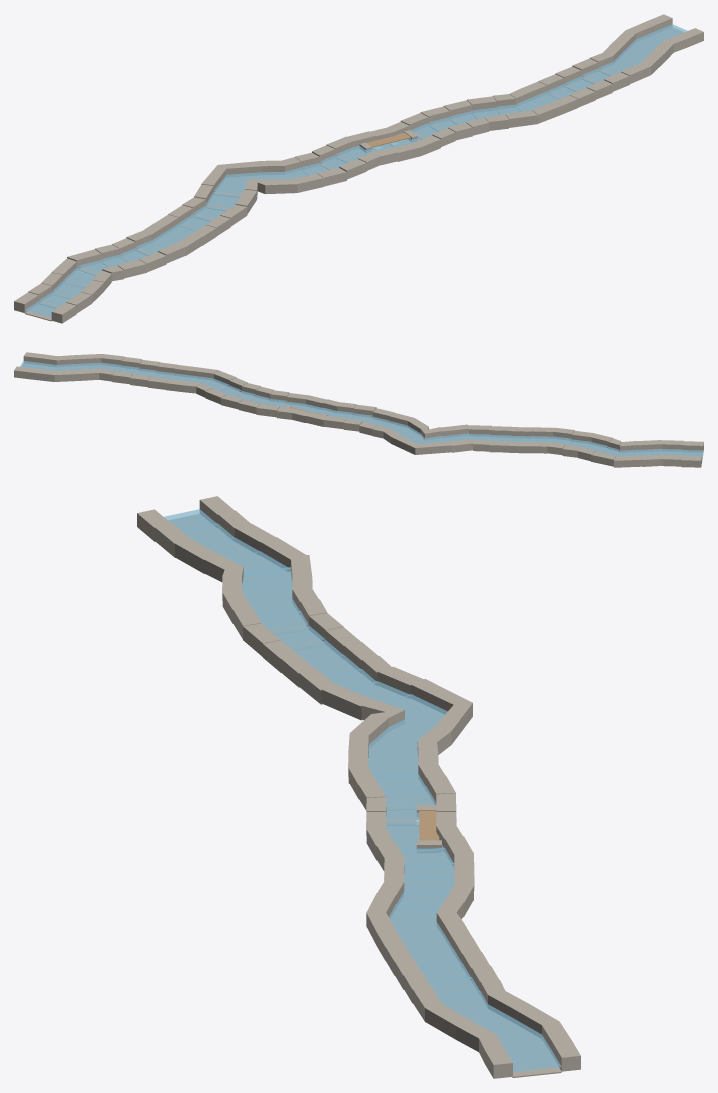
The model's file is creek.glb.
The picture shows the model from 3 angles, top to bottom: view 1: azimuth 30°, elevation 25°; view 2: azimuth 150°, elevation 25°; view 3: azimuth 270°, elevation 25°; orthographic projection. The views are drawn at different scales.
Visible parts, largest first — view 1: river stone, water; view 2: river stone, water; view 3: river stone, water.
Part boxes in pixels (x1=…): river stone: x1=14, y1=14, x2=703, y2=323; water: x1=25, y1=24, x2=687, y2=317; river stone: x1=14, y1=352, x2=703, y2=467; water: x1=20, y1=361, x2=703, y2=458; river stone: x1=137, y1=496, x2=580, y2=1078; water: x1=164, y1=509, x2=561, y2=1072.
Size of the model in its own units: 77.72 by 2.31 by 24.66.
